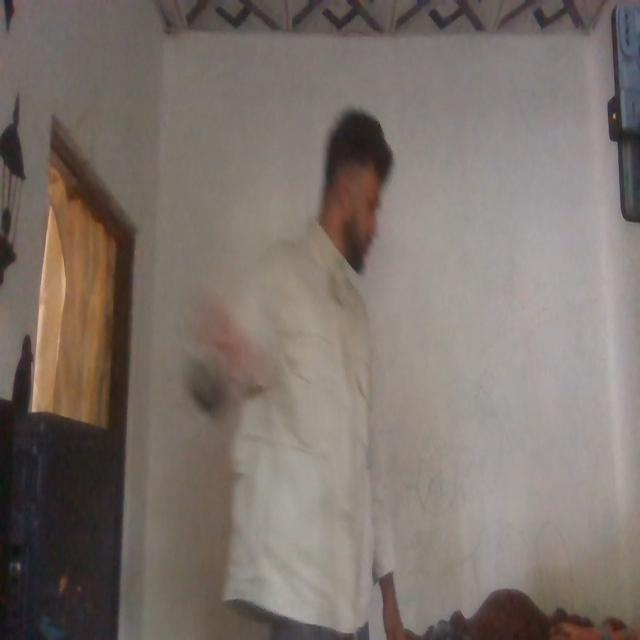Jacket_Wearer: (218, 214, 396, 630)
Person: (194, 82, 438, 640)
